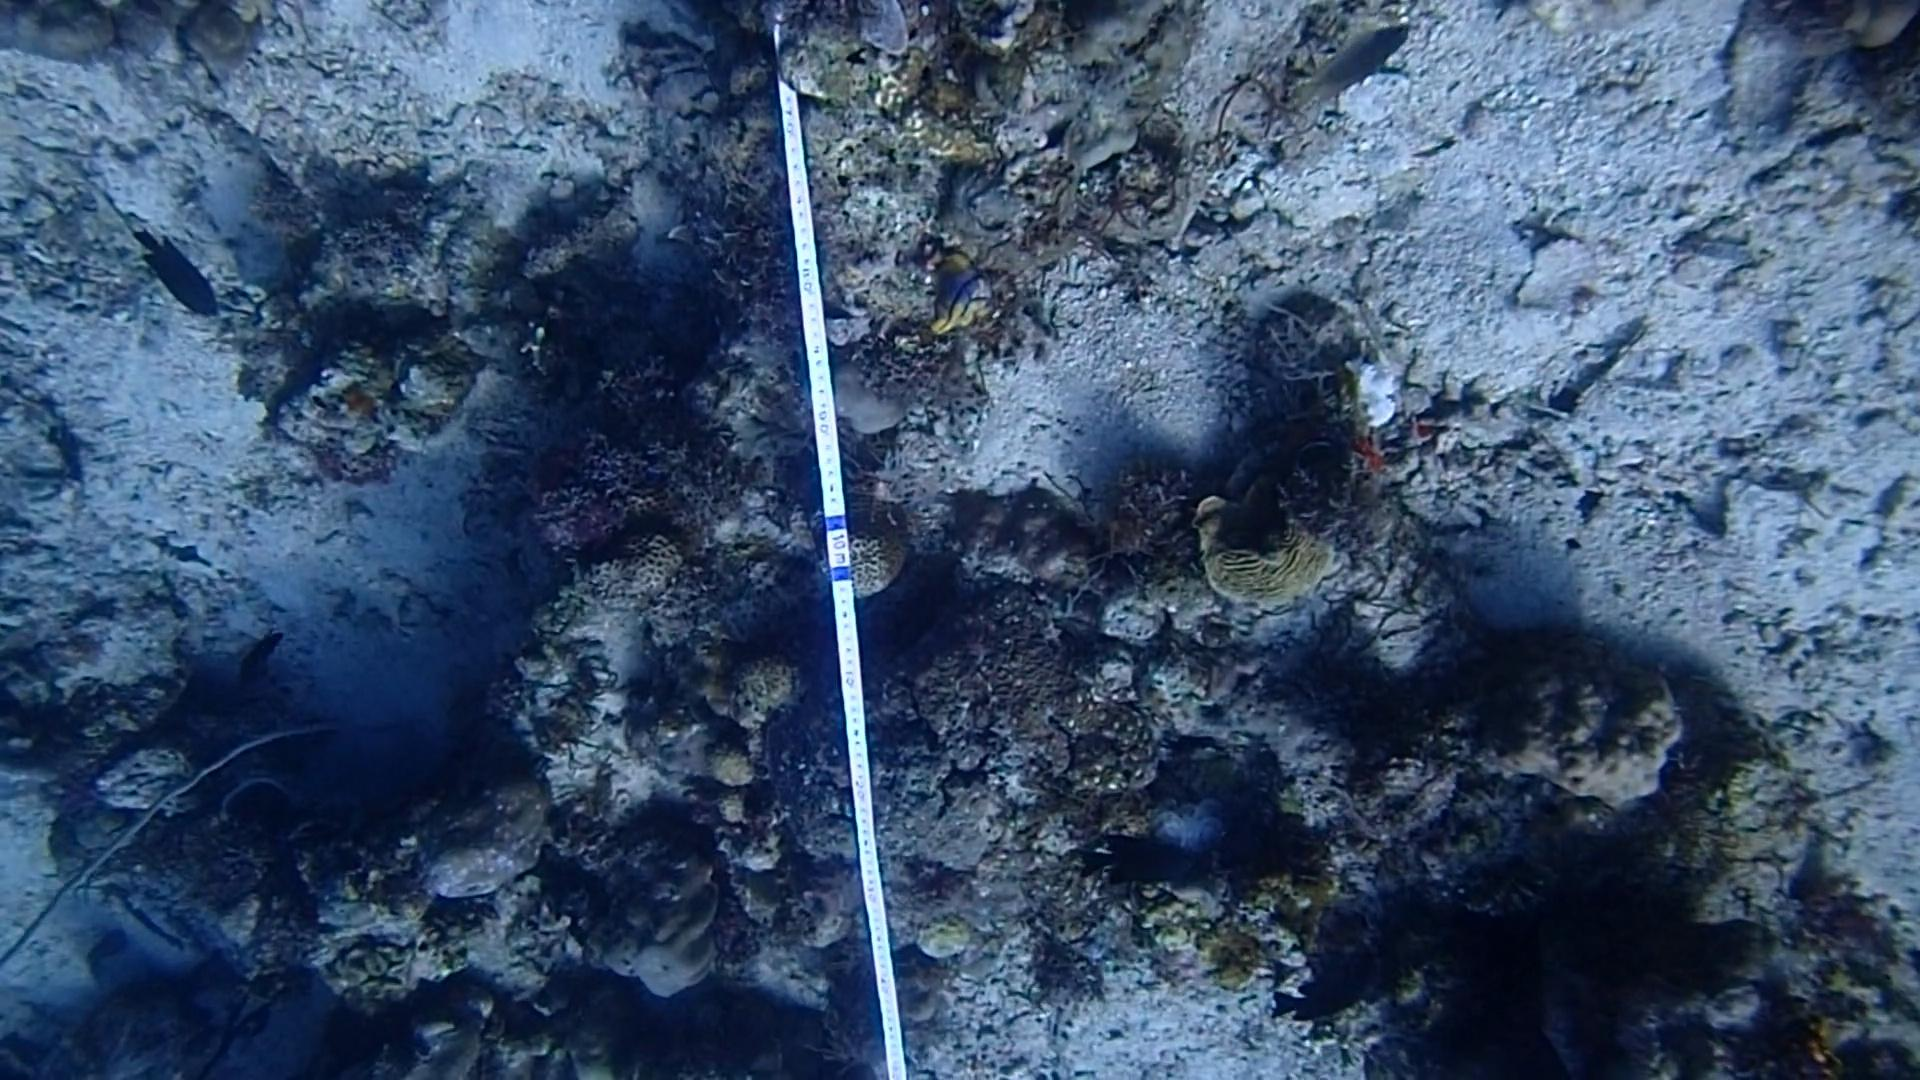Dark Fish: (127, 214, 233, 331), (1083, 827, 1208, 905), (1262, 960, 1389, 1034), (222, 625, 293, 690)
Light Fish: (1292, 17, 1432, 112)
